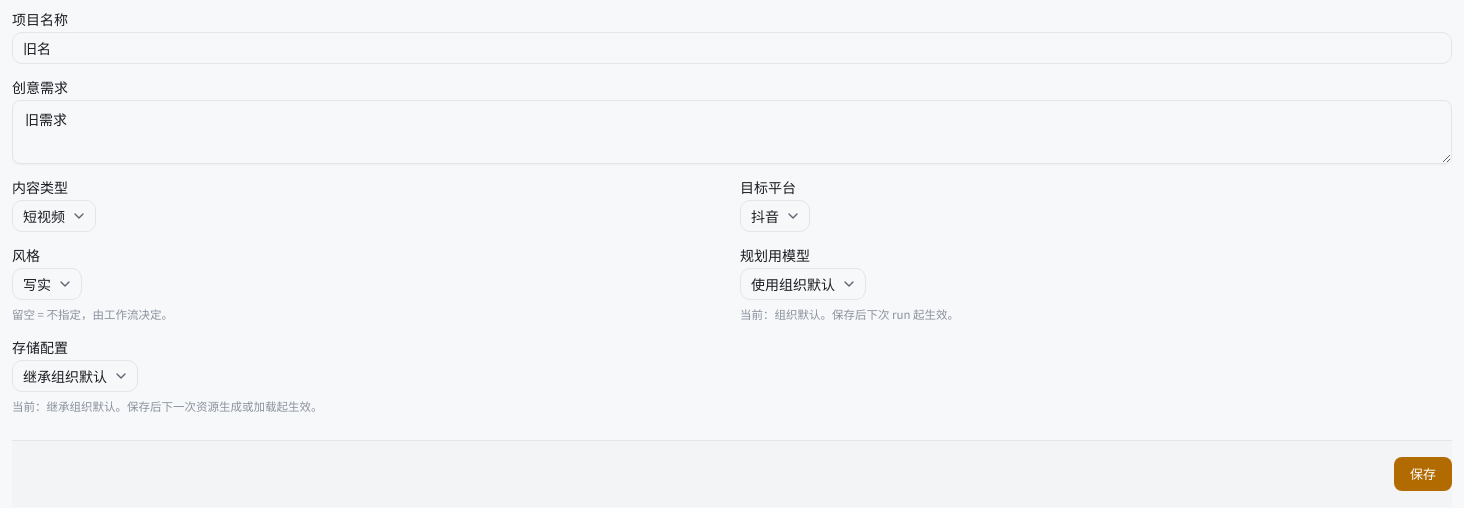
Test: EditProjectForm › renders 继承组织默认 + each enabled config in the storage dropdown
This screenshot has width=1464, height=508.
Note: 点开下拉，验证所有选项。
Click the dropdown named "存储配置": click(75, 376) [12, 360, 138, 392]
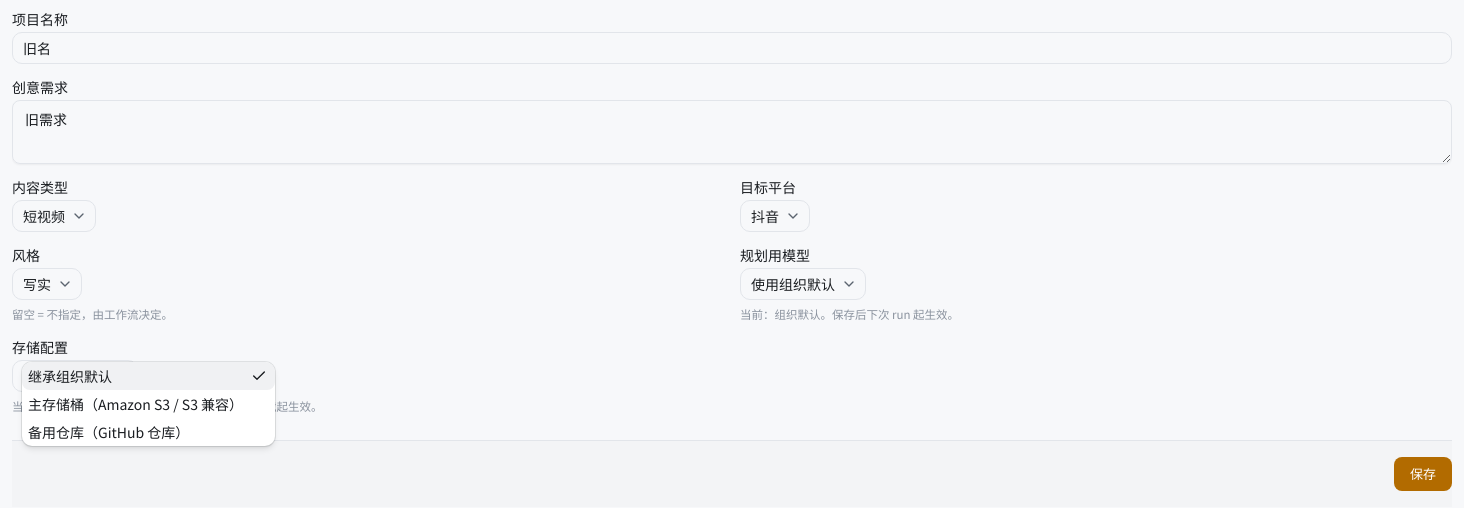
Expected: the option "继承组织默认" is shown, [22, 362, 275, 390]
Expected: the option "主存储桶（Amazon S3 / S3 兼容）" is shown, [28, 394, 243, 414]
Expected: the option "备用仓库（GitHub 仓库）" is shown, [28, 422, 189, 442]
